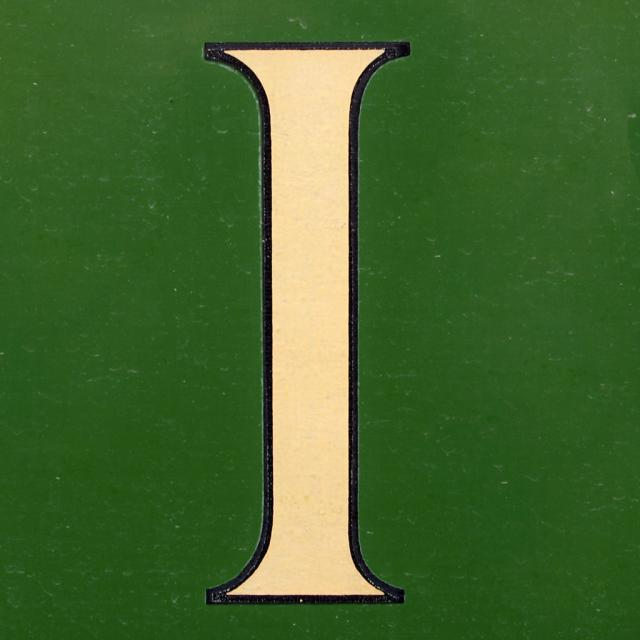I: (177, 29, 442, 640)
